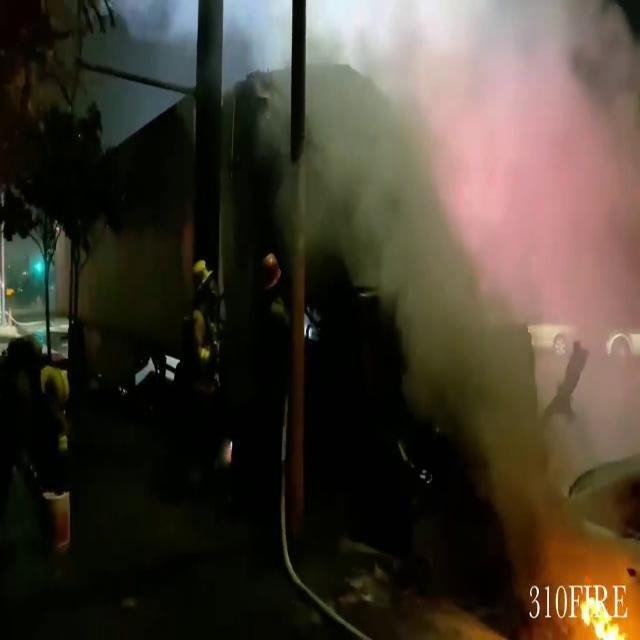Smoke: (306, 0, 640, 575)
